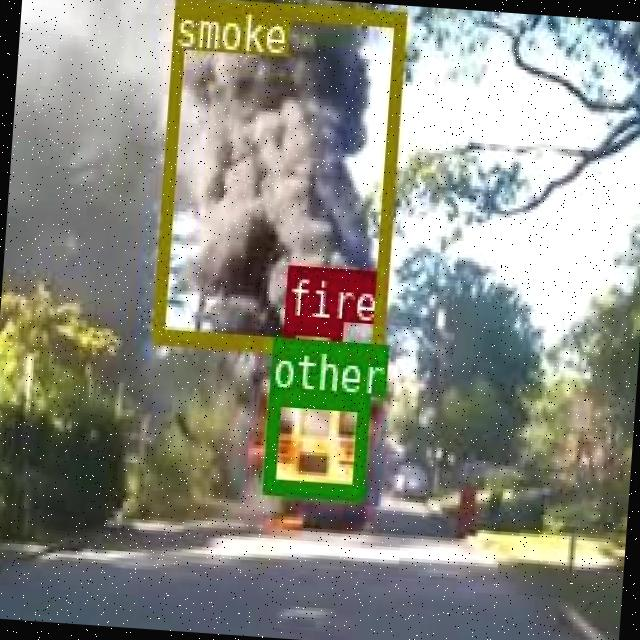fire: (278, 314, 340, 384)
smoke: (149, 0, 404, 353)
